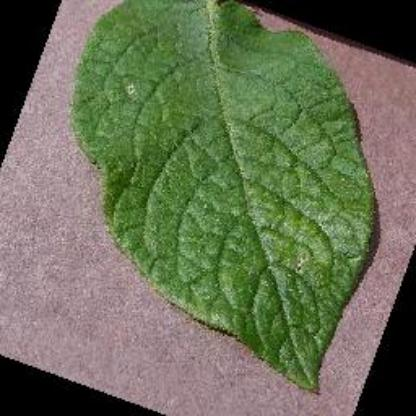Healthy-plant: (37, 2, 386, 390)
